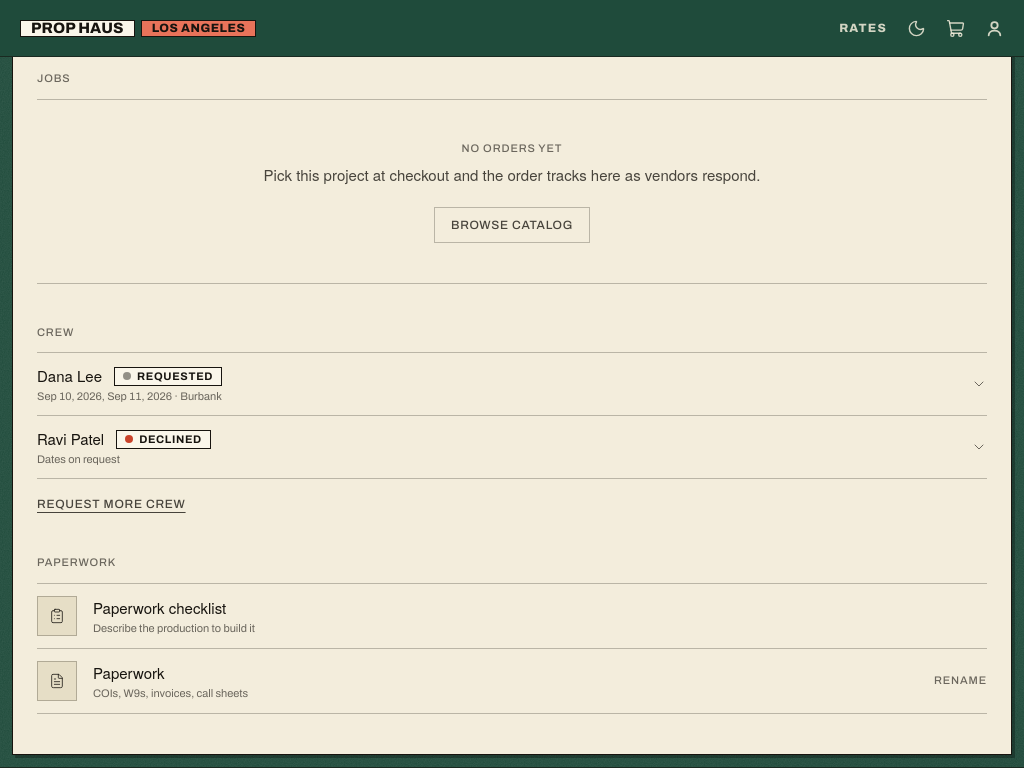
it: ProjectPage › Crew section › lists each request as a one-line summary that expands into the contractor profile
(page scrolled)
Expected: the text "Cargo van" is not shown
Expected: the button "Ravi Patel DECLINED Dates on request" is shown, top-left (37, 416), bottom-right (987, 478)
// Expanded: the full profile and the request.
Click the button "Dana Lee REQUESTED Sep 10, 2026, Sep 11, 2026 · Burbank". click: (70, 376)
box: top-left (37, 353), bottom-right (987, 415)
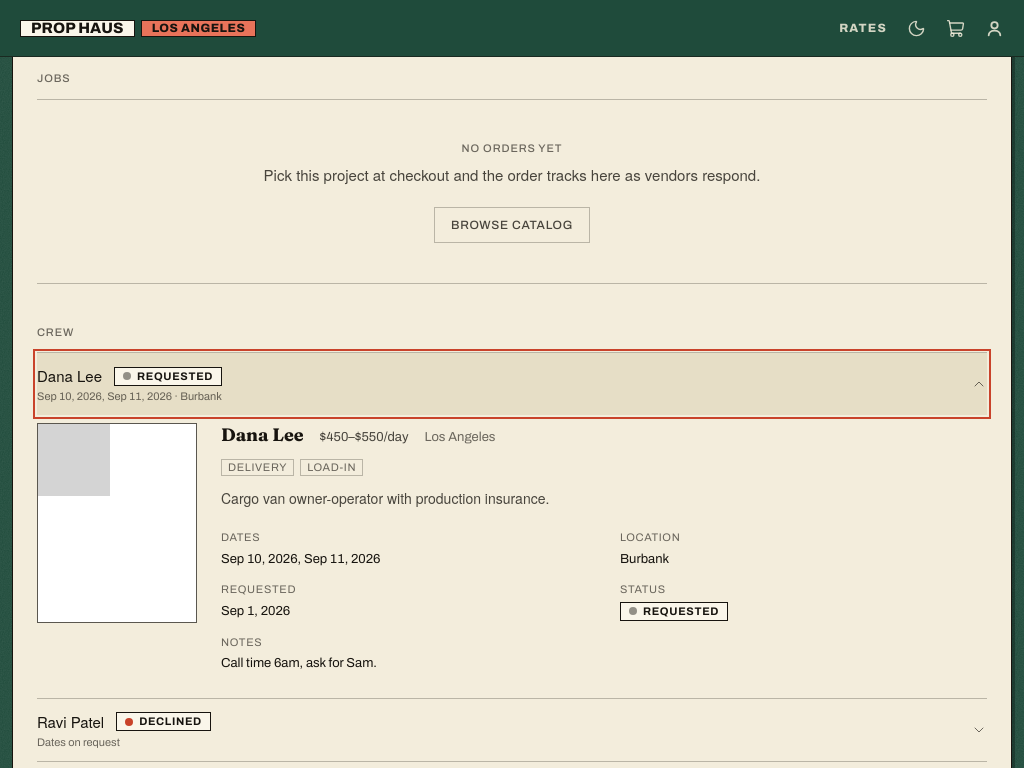
Expected: the text "$450–$550/day" is shown, top-left (320, 428), bottom-right (408, 446)
Expected: the text "Los Angeles" next to "$450–$550/day" is shown, top-left (424, 430), bottom-right (496, 444)
Expected: the list named "Skills" reads "Delivery Load-in", top-left (221, 459), bottom-right (363, 476)
// Rows open independently, and close again.
Click the button "Ravi Patel DECLINED Dates on request". click: (71, 721)
box: top-left (37, 698), bottom-right (987, 760)
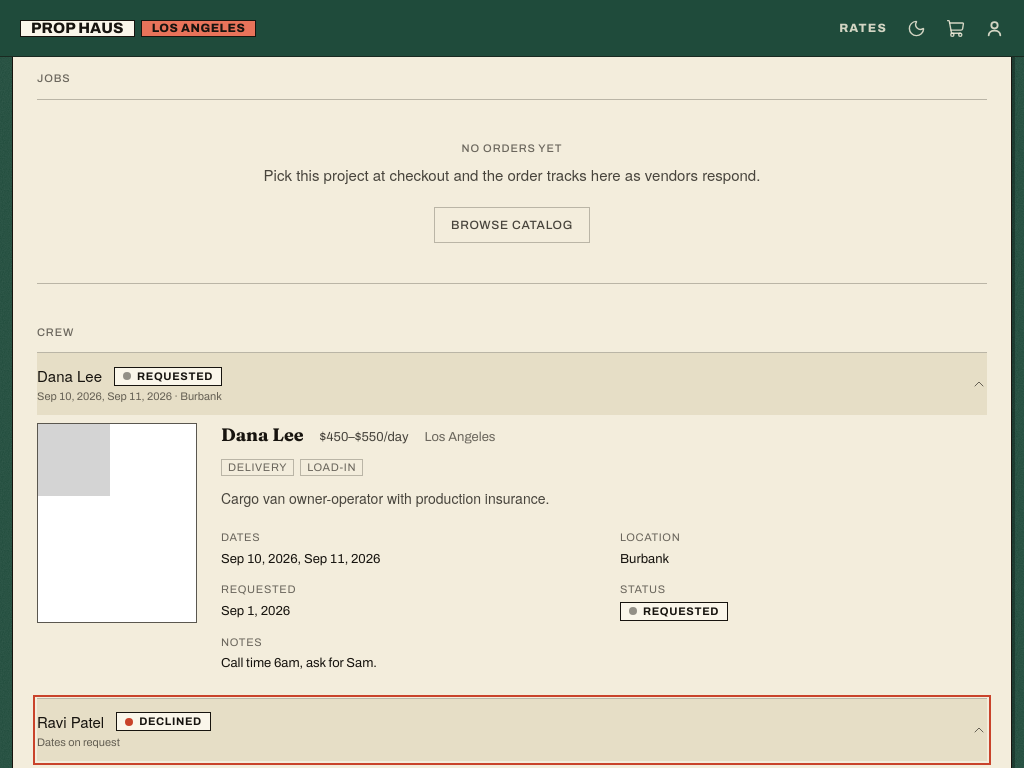
Click the button "Dana Lee REQUESTED Sep 10, 2026, Sep 11, 2026 · Burbank". click: (70, 376)
box: top-left (37, 353), bottom-right (987, 415)
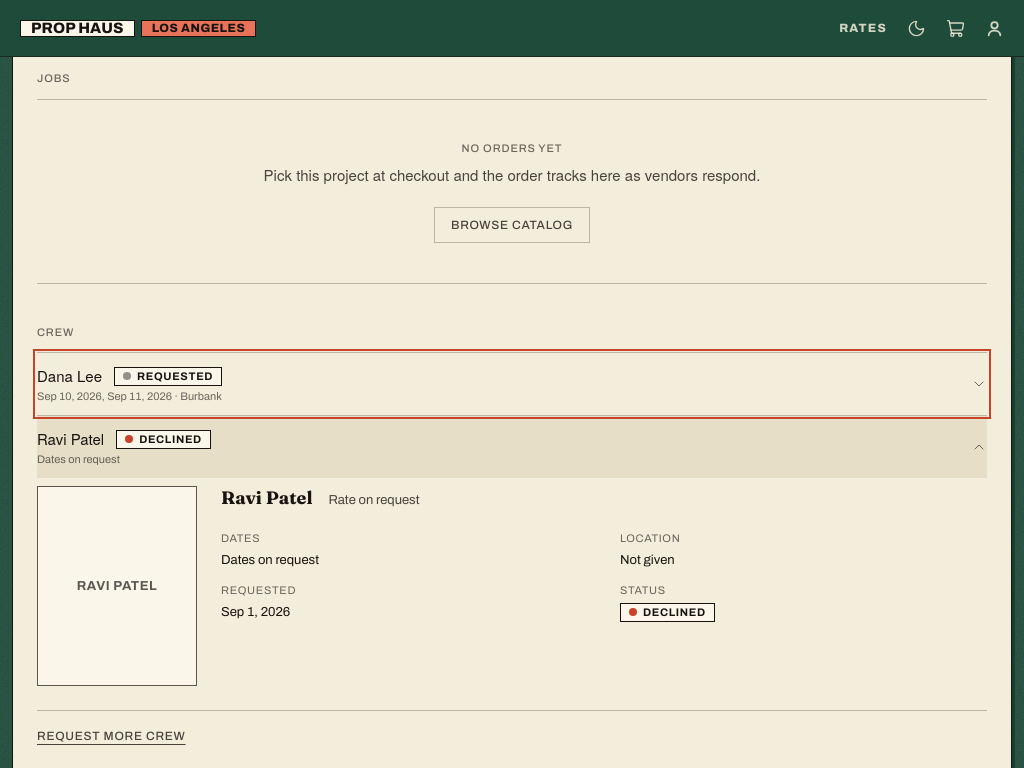
Expected: the element with id "crew-cr-1-details" is gone
